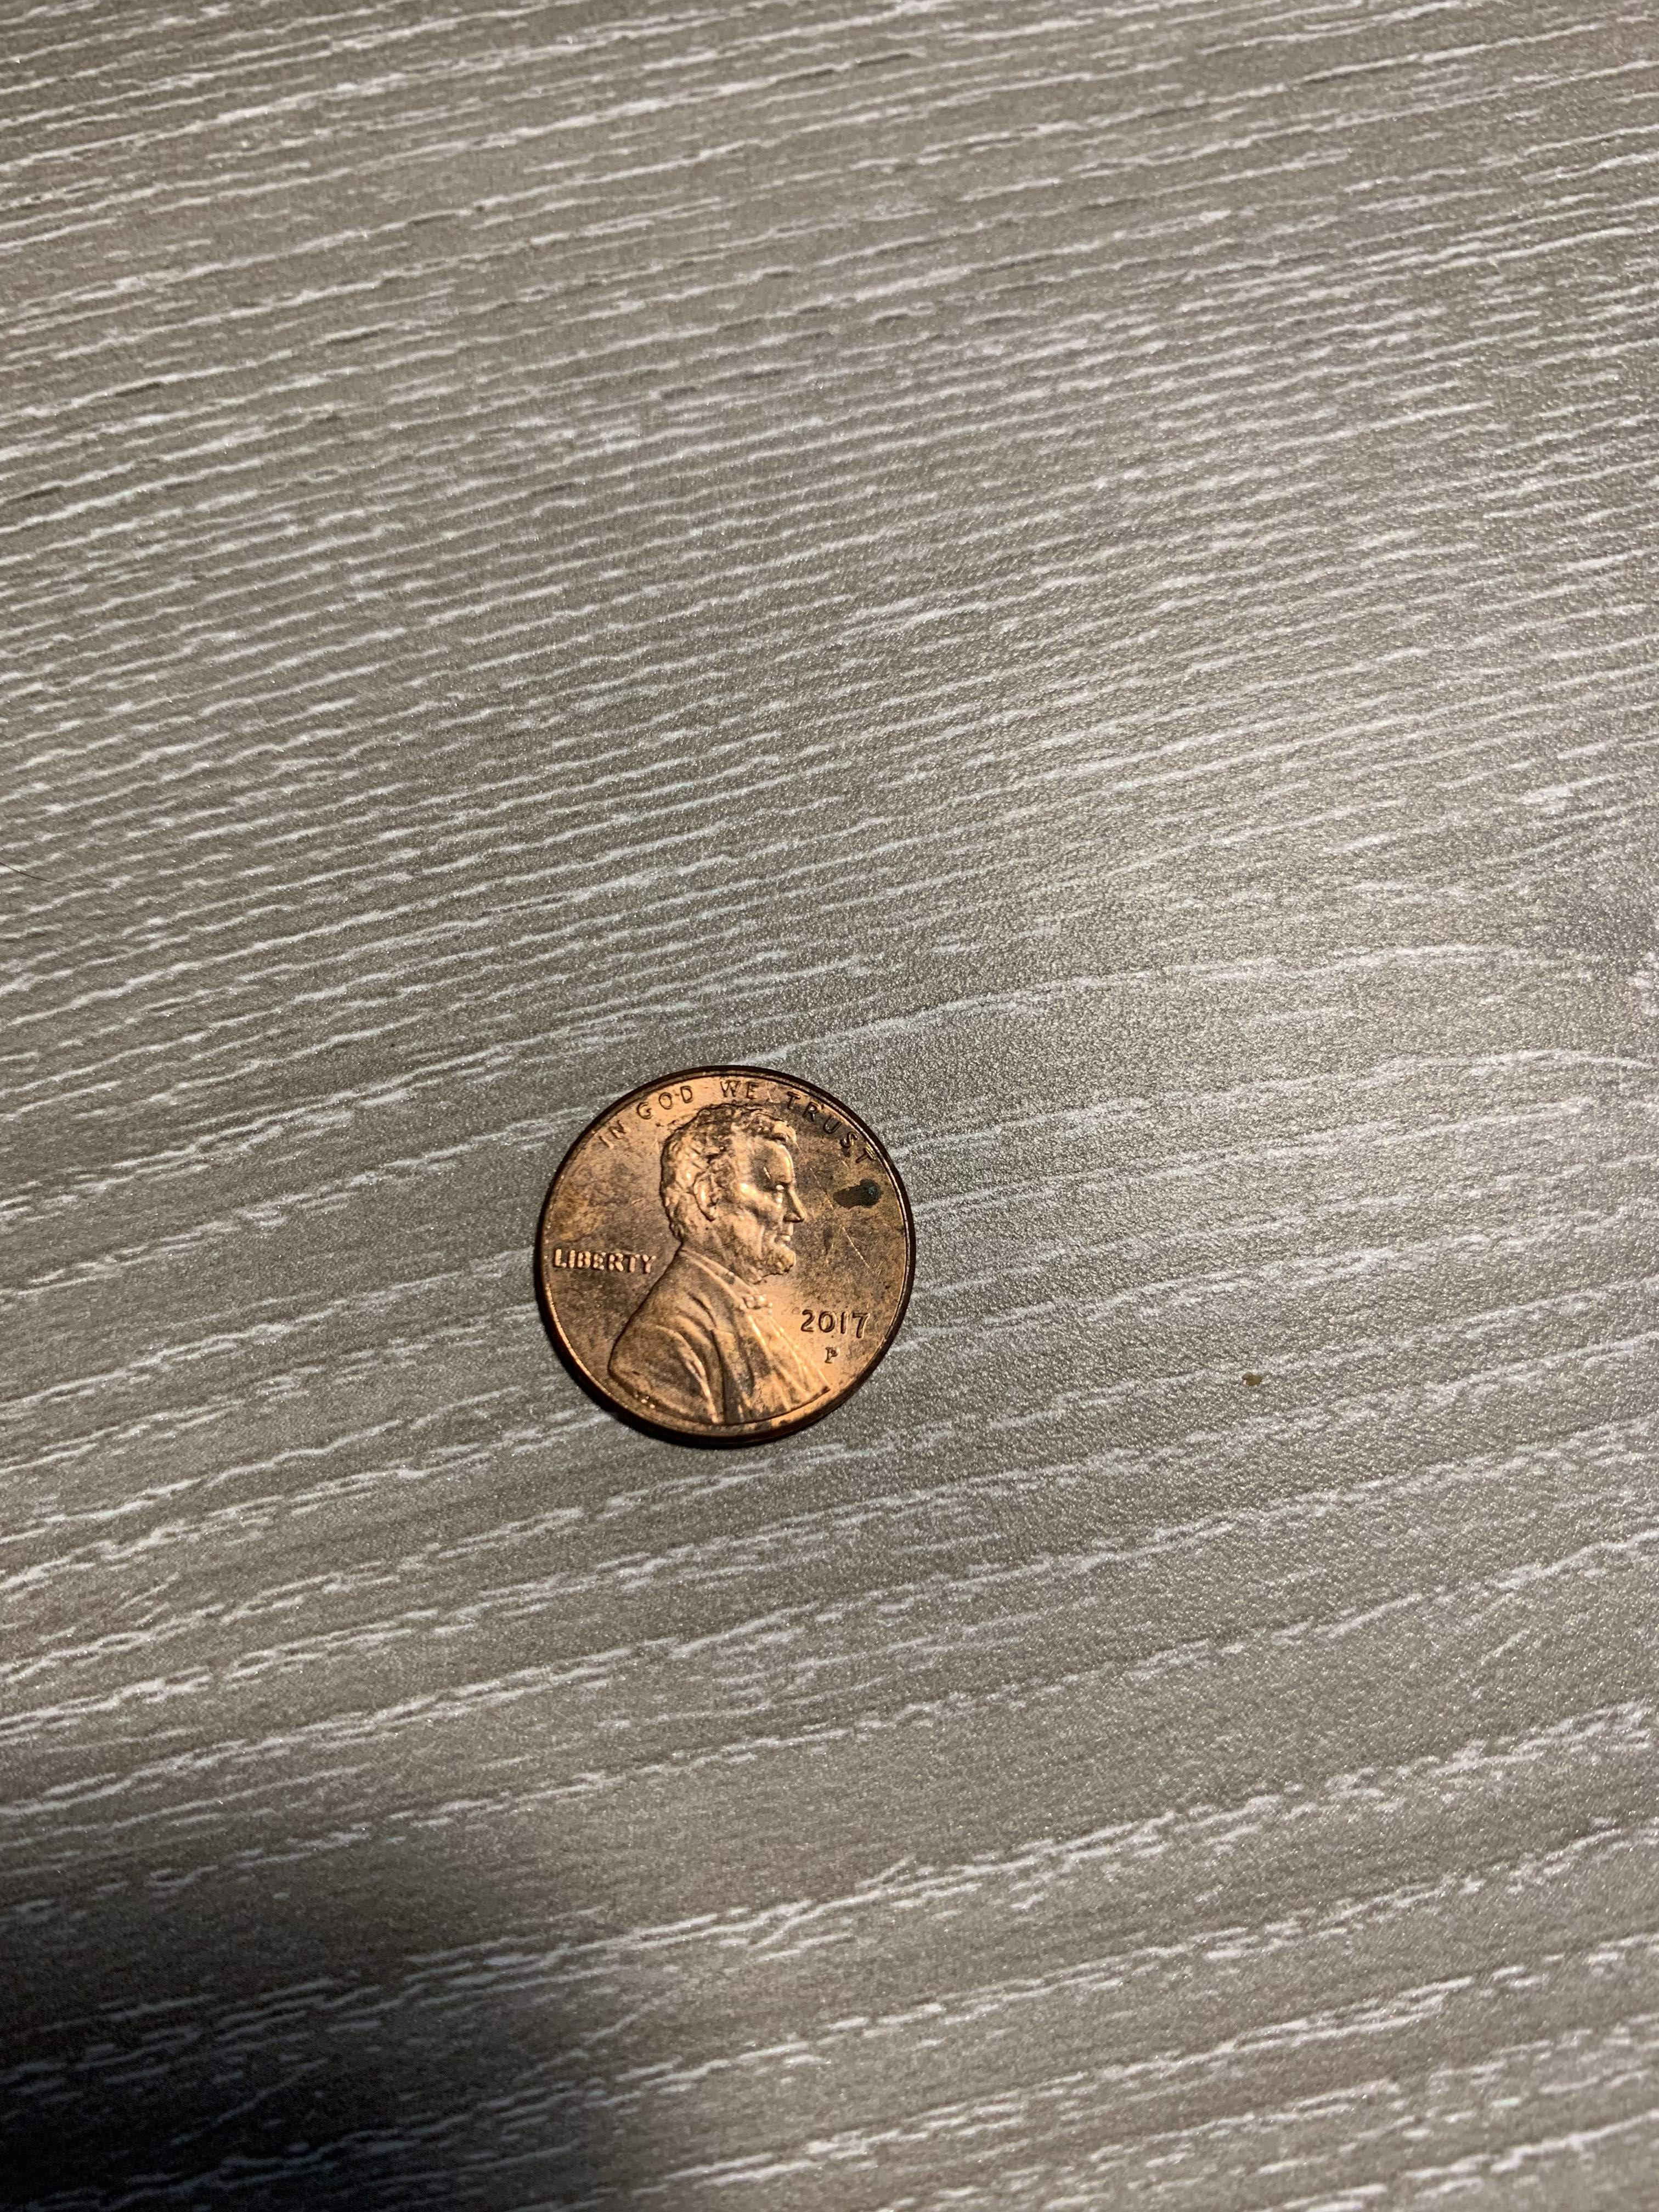Penny: (518, 1055, 931, 1461)
